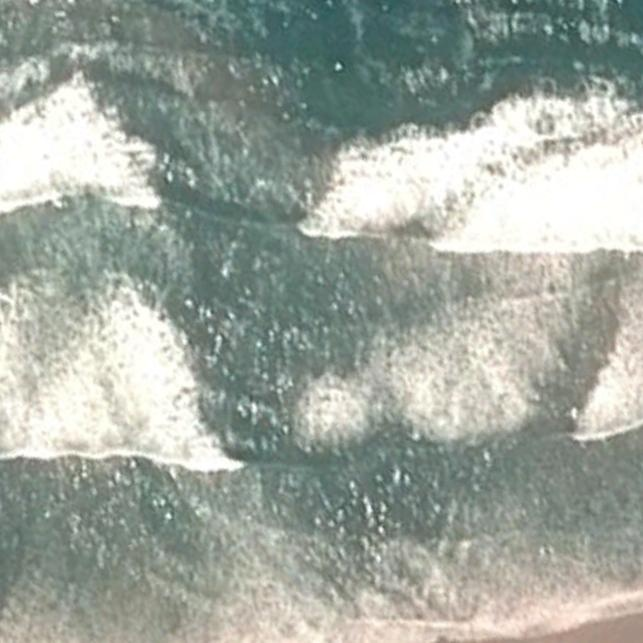rip_current: (109, 104, 375, 477)
